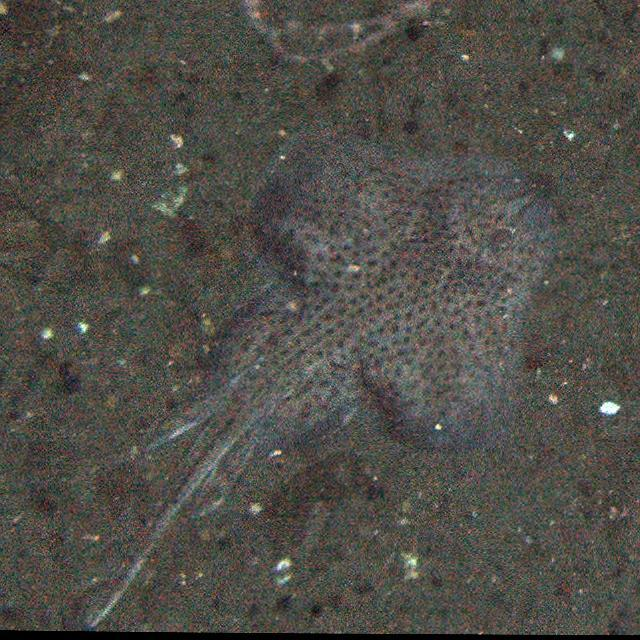skate: (128, 122, 544, 572)
